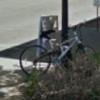bicycles: (20, 22, 100, 79)
